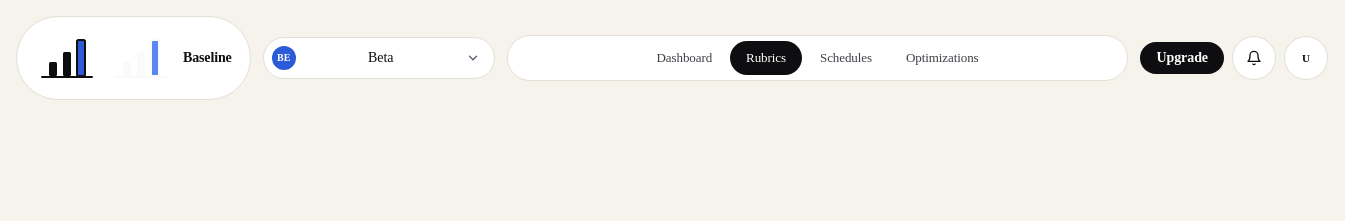
Test: NavBarClient › optimistically shows the picked team while the switch is in flight
The width and height of the screenshot is (1345, 221).
Click the button with aria-label "Switch team".
click(379, 58)  # box [263,37,495,79]
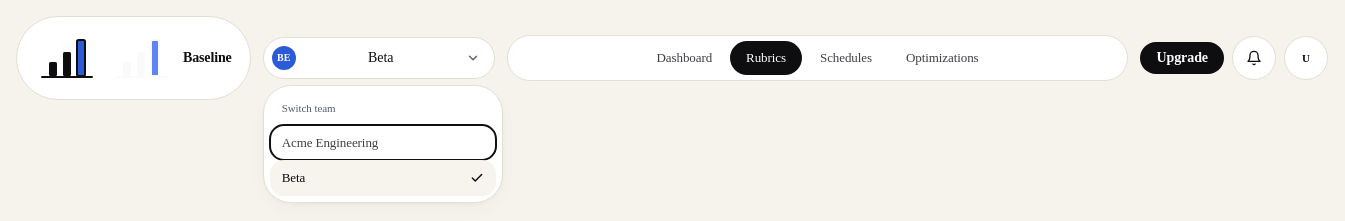
Click the menu item "Acme Engineering".
click(383, 142)  # box [270,124,496,160]
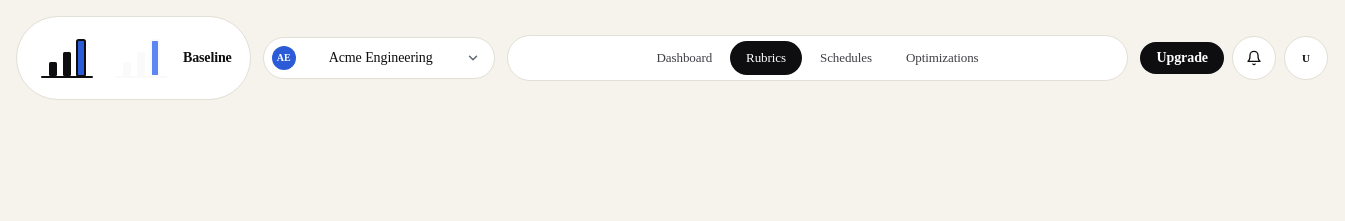
Result: the button with aria-label "Switch team" shows "Acme Engineering" at [263,37,495,79]
Result: the menu is gone
